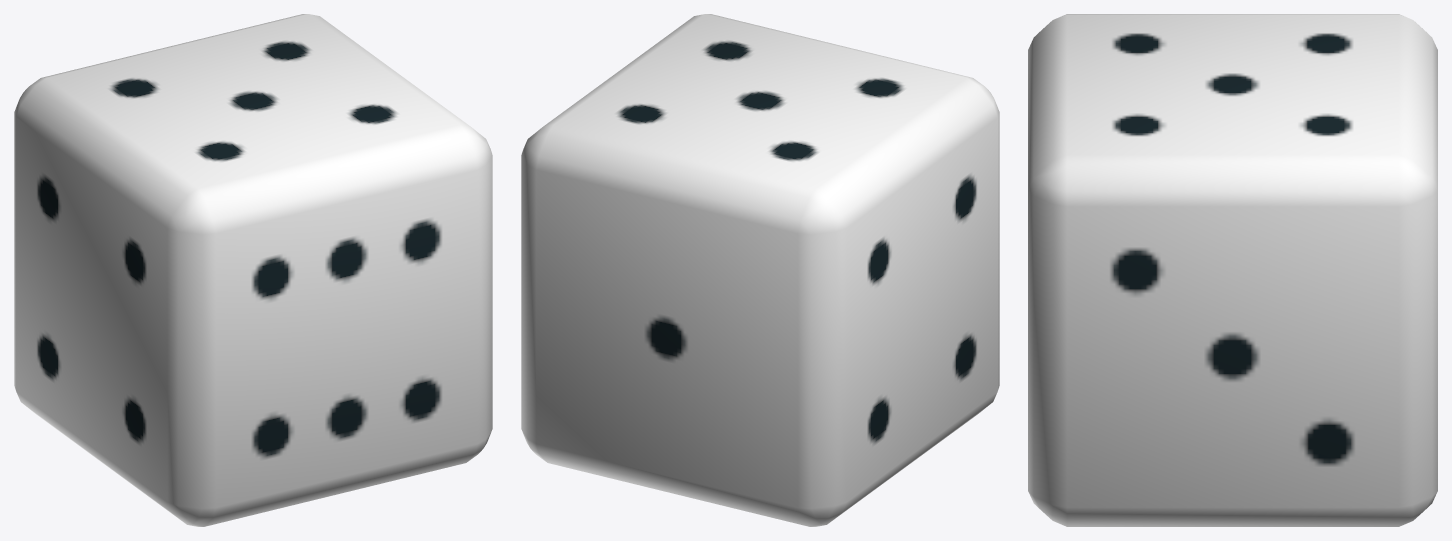
Rendered from dice.glb.
The picture shows the model from 3 angles, left to right: view 1: azimuth 30°, elevation 25°; view 2: azimuth 150°, elevation 25°; view 3: azimuth 270°, elevation 25°; orthographic projection. The views are drawn at different scales.
Parts seen in each view (by area): view 1: Cube; view 2: Cube; view 3: Cube.
Boxes of the visible parts, <box> form: Cube: <box>14,14,492,526</box>; Cube: <box>521,14,999,526</box>; Cube: <box>1028,14,1437,526</box>.
Bounding box in the file's own units: 0.066 × 0.066 × 0.066.
Materials: 1 (1 with a texture image).
